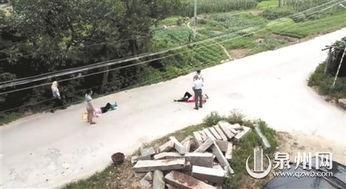Fall-Detected: (170, 87, 196, 102)
